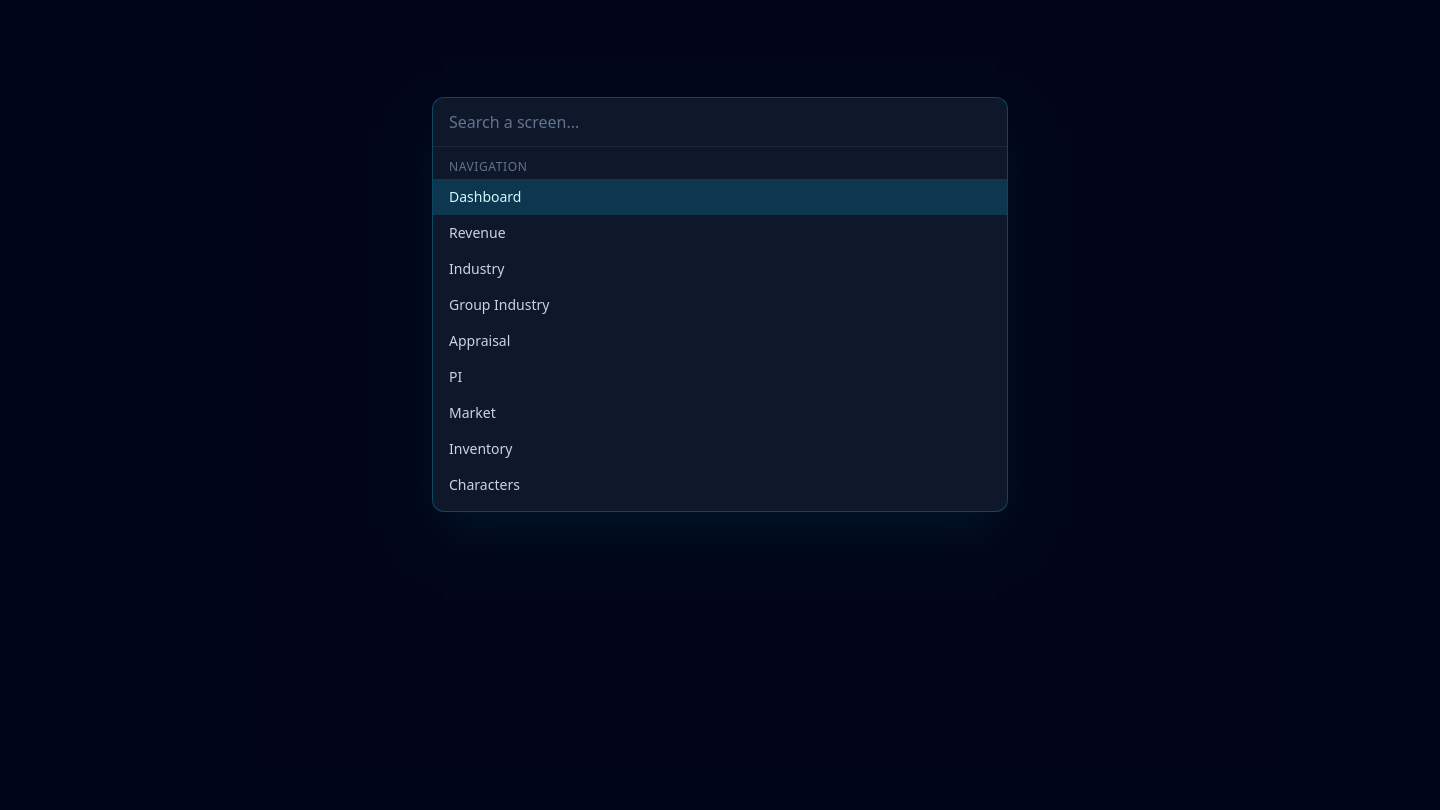
Test: CommandPalette types › search request › ignores the answer of an outdated query
Type "ra" into the dropdown with placeholder "Search a screen..." at (720, 123), box [433,98,1007,147]
Wait 250 ms
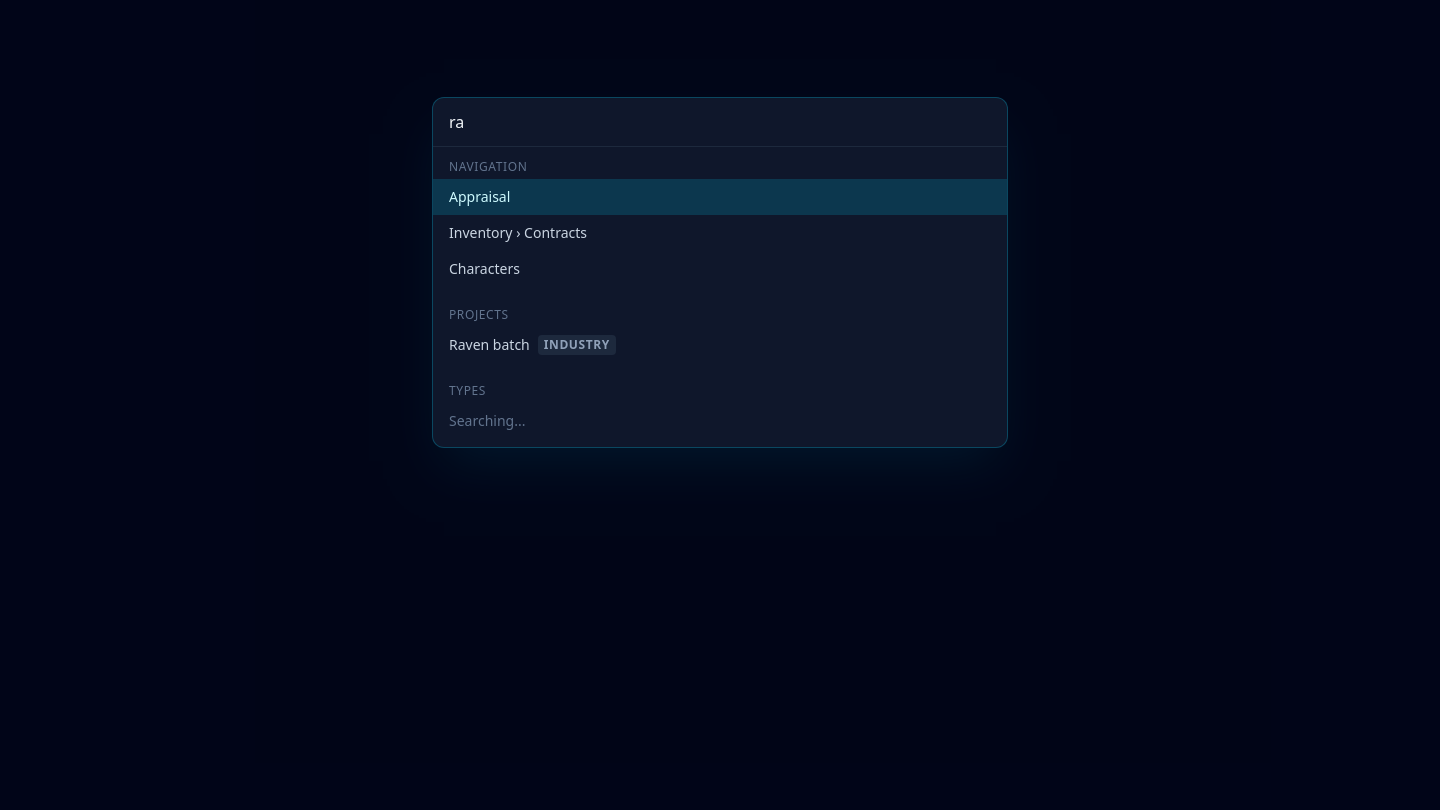
Replace the text in the dropdown named "Command palette" with "rav" at (720, 123), box [433,98,1007,147]
Wait 250 ms
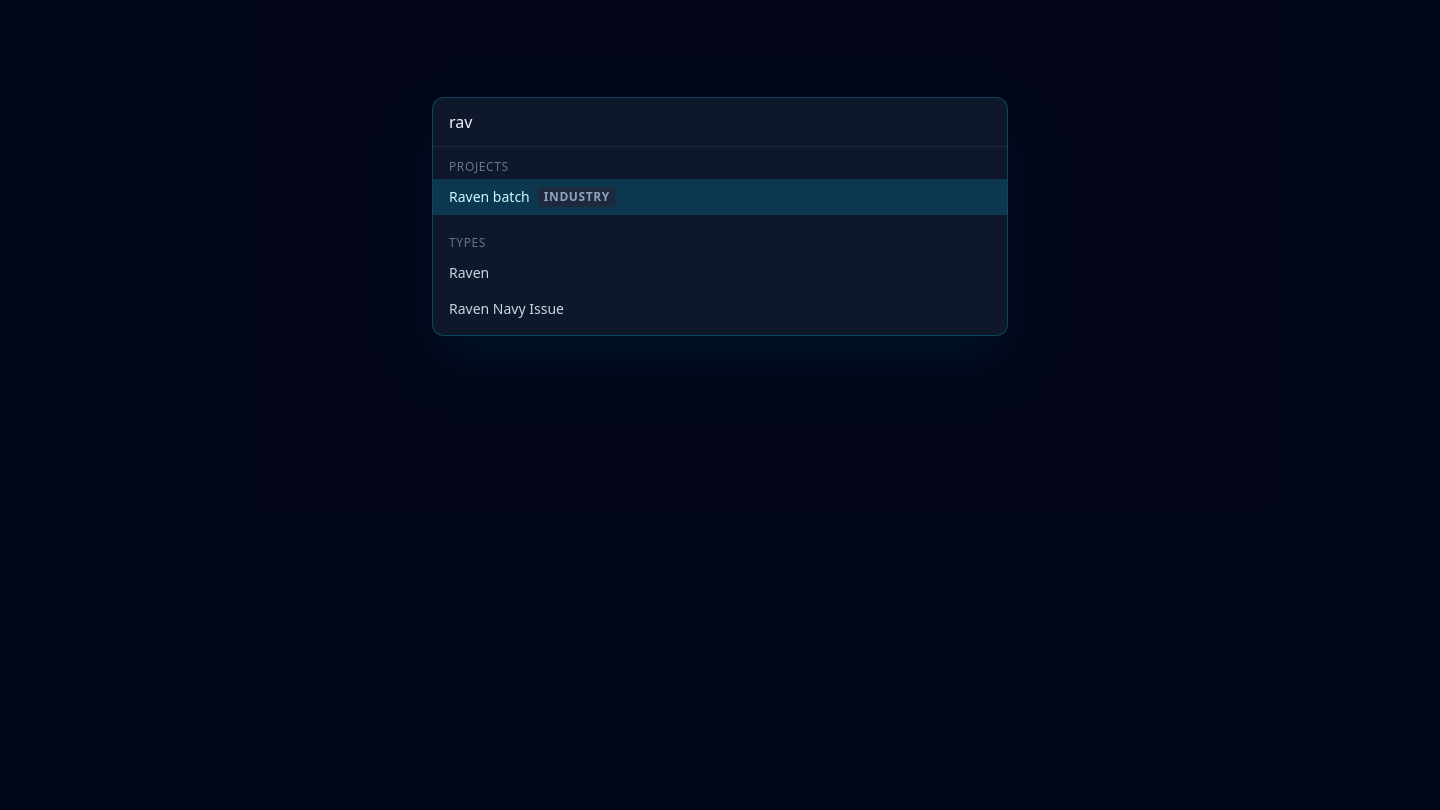
Check: the element showing "Types Raven Raven Navy Issue" is shown, box [449,234,564,318]
